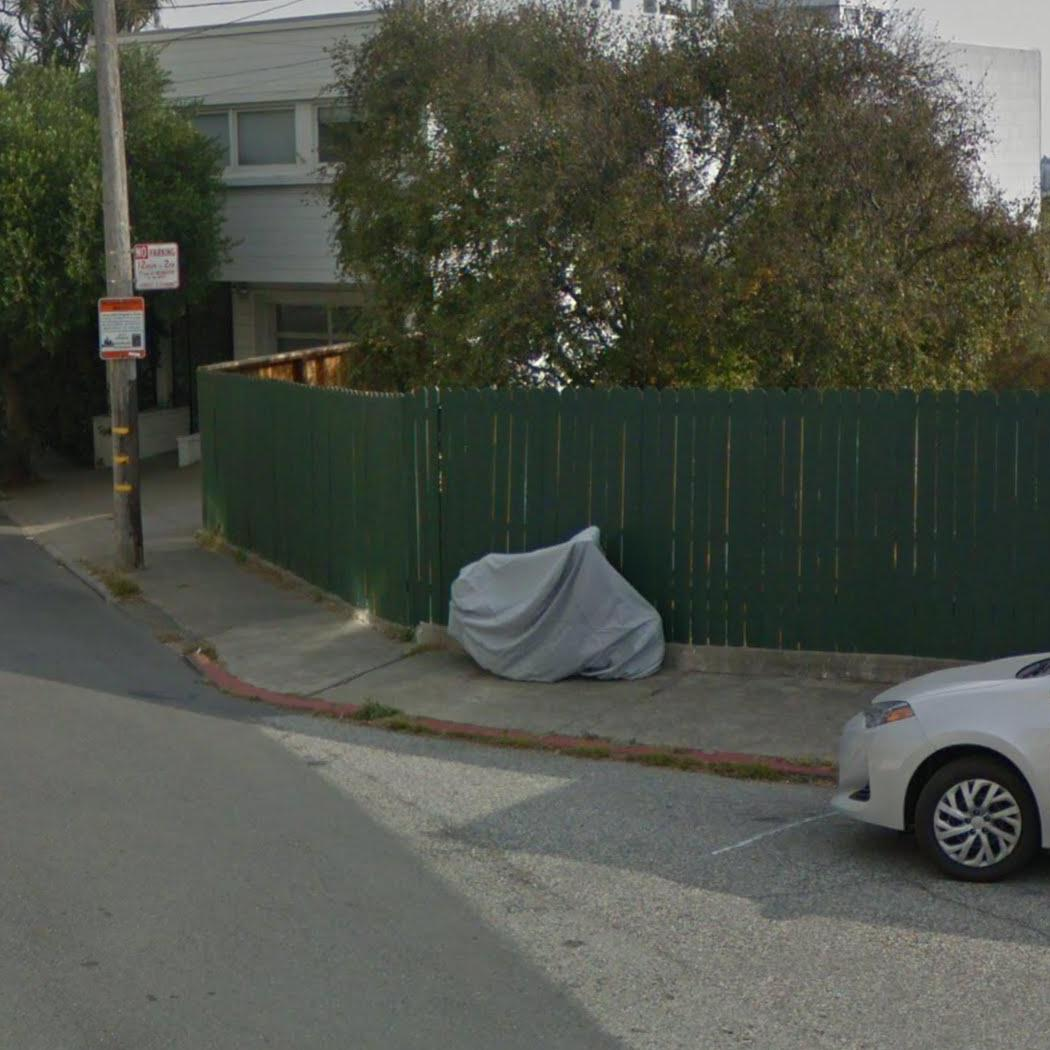No Parking: (131, 241, 181, 293)
